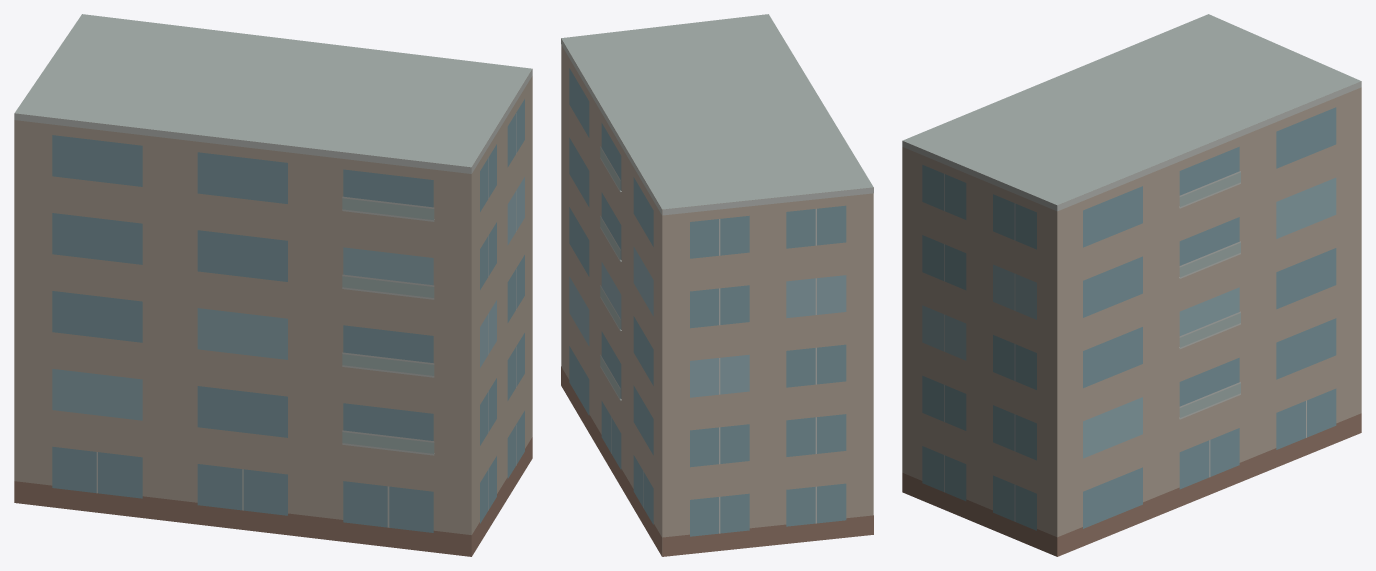
The model's file is survey-upis-32849470.glb.
3 views of the same model, side by side, from view 1: azimuth 30°, elevation 25°; view 2: azimuth 150°, elevation 25°; view 3: azimuth 270°, elevation 25° (orthographic). The views are drawn at different scales.
Visible parts, largest first — view 1: survey-upis-32849470.tmp; view 2: survey-upis-32849470.tmp; view 3: survey-upis-32849470.tmp.
Part boxes in pixels (<box>): survey-upis-32849470.tmp: <box>14,14,532,556</box>; survey-upis-32849470.tmp: <box>561,14,873,556</box>; survey-upis-32849470.tmp: <box>902,14,1361,556</box>.
Bounding box in the file's own units: 16.46 × 14.1 × 16.7.
